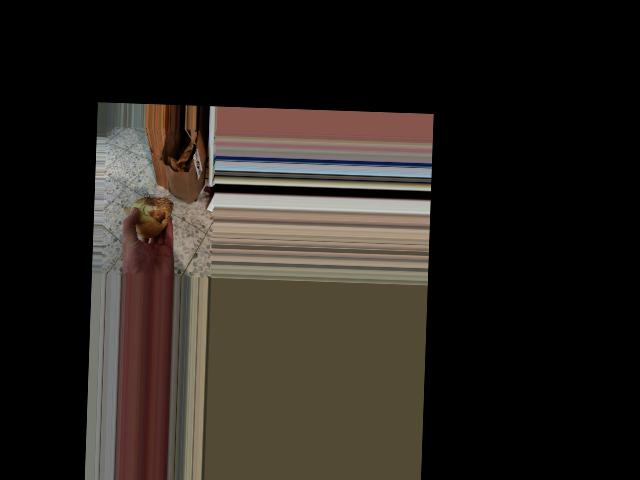onion: (123, 191, 175, 242)
